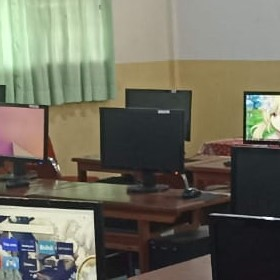monitor: (0, 196, 107, 278), (99, 107, 186, 175), (229, 145, 280, 218), (125, 88, 192, 143), (0, 103, 49, 165), (242, 91, 279, 145), (0, 85, 6, 102)
